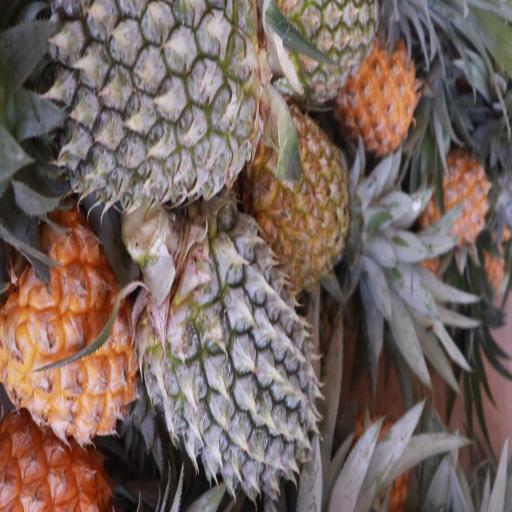------------------------------: (255, 113, 347, 280), (269, 0, 382, 98)
Pineapple - v8 v1: (0, 226, 126, 440), (344, 36, 419, 154), (421, 156, 492, 252)
